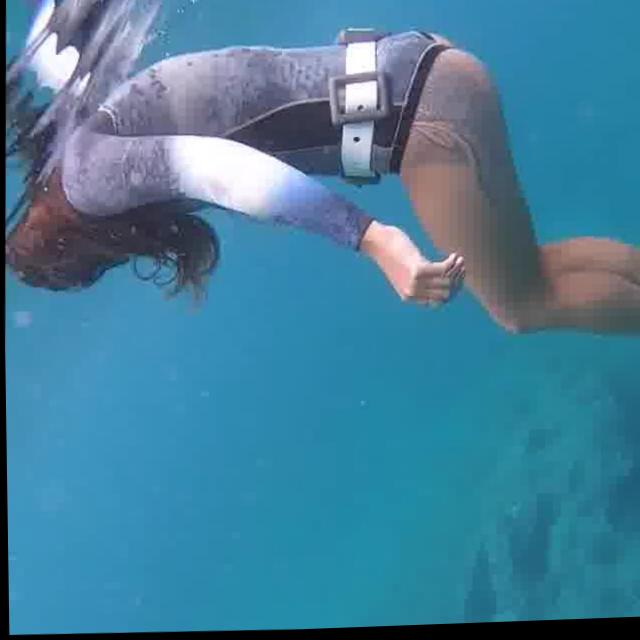human: (0, 5, 640, 428)
